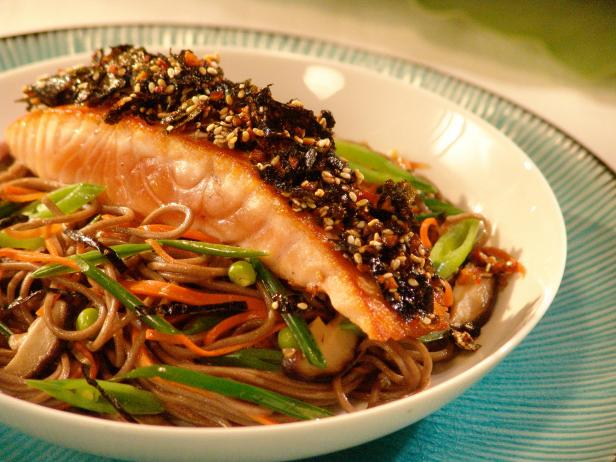Soba: (3, 186, 431, 383)
